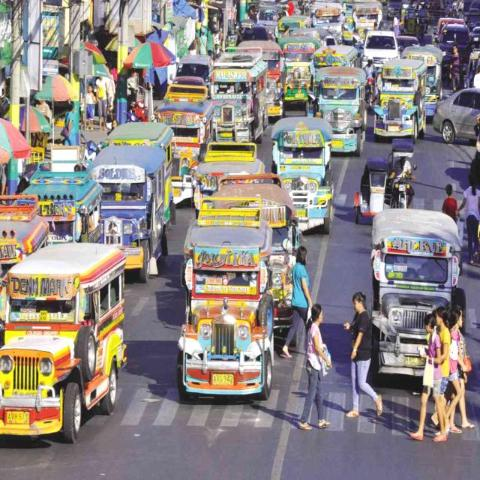car: (433, 84, 479, 152), (434, 23, 472, 77), (362, 30, 398, 66)
jeepney: (1, 241, 137, 428), (174, 215, 293, 418), (359, 200, 473, 391), (92, 126, 181, 266), (206, 50, 289, 148), (268, 119, 334, 237), (365, 58, 444, 156), (19, 161, 103, 253), (197, 174, 298, 244), (307, 58, 373, 160), (191, 145, 270, 213), (154, 87, 215, 167), (277, 32, 327, 115), (1, 195, 51, 272), (106, 120, 170, 178), (401, 46, 443, 115), (309, 39, 361, 78)
